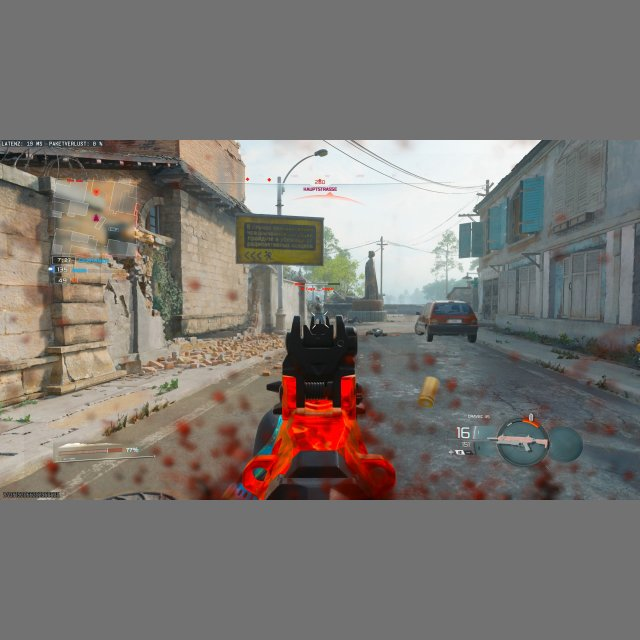player: (309, 295, 324, 325)
